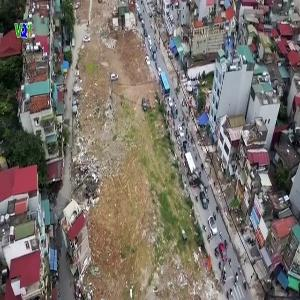drone: (154, 137, 244, 227)
